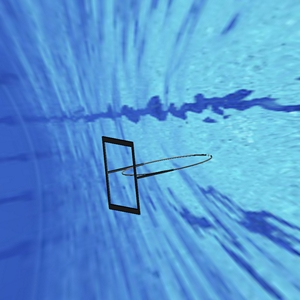circle: (97, 133, 213, 216)
